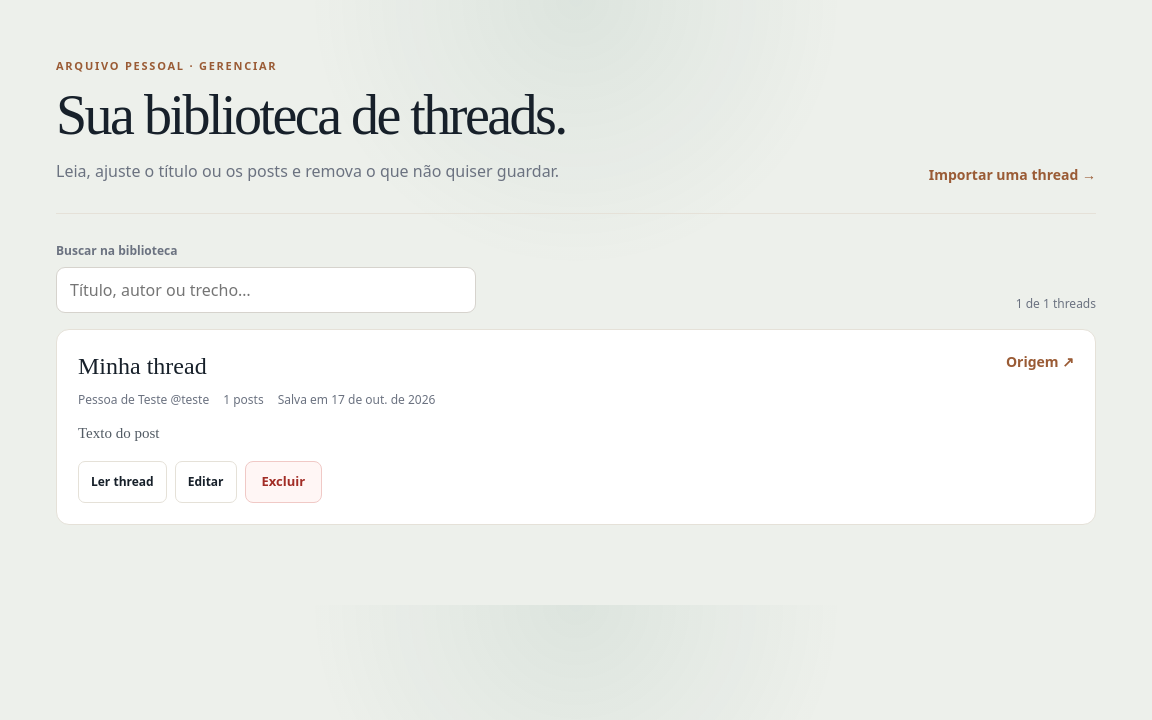
Test: returns focus to the library search when saving removes the edit opener during reload
Click the button "Editar": point(206, 482) [175,461,237,503]
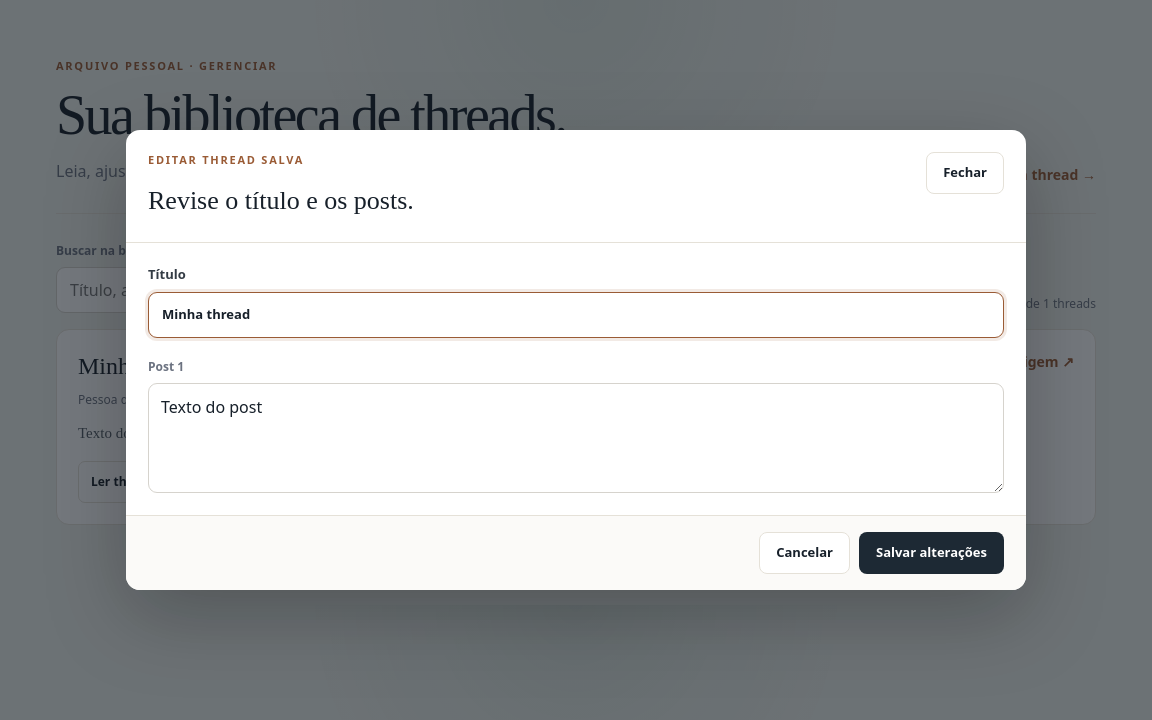
expect the dialog "Revise o título e os posts." is shown: met, box [126,130,1026,590]
Click the button "Salvar alterações": point(932, 553) [859,532,1004,574]
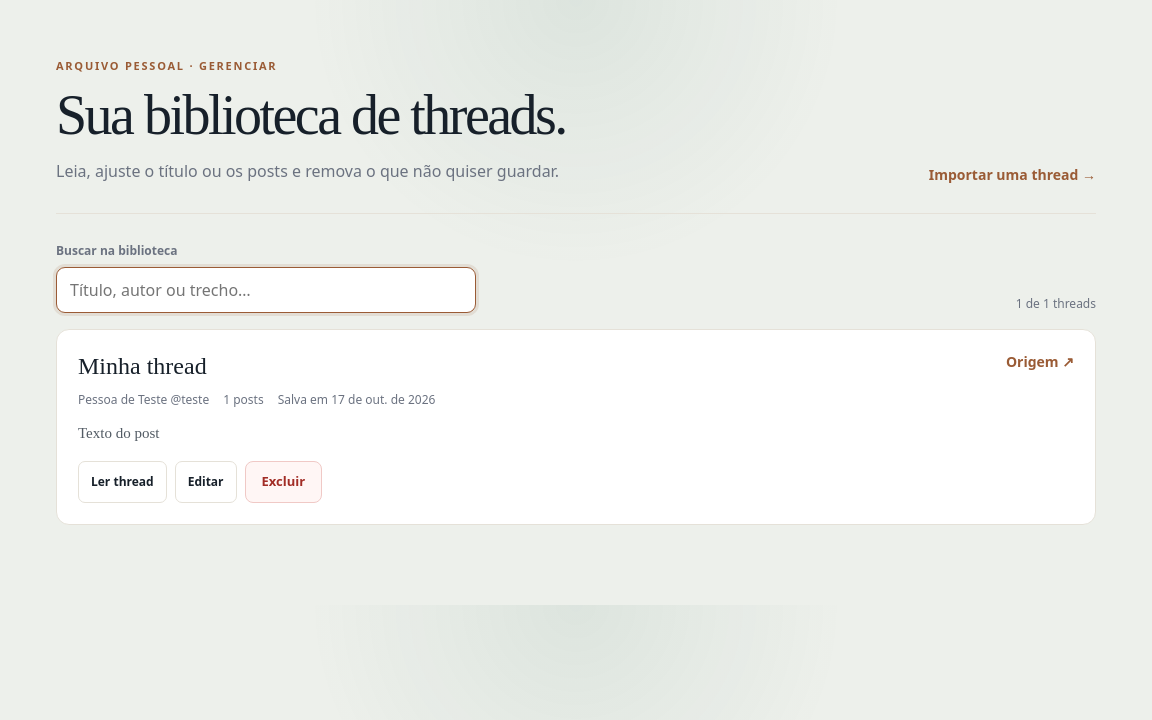
expect the button "Editar" is shown: met, box [175,461,237,503]
expect the dialog is gone: met
